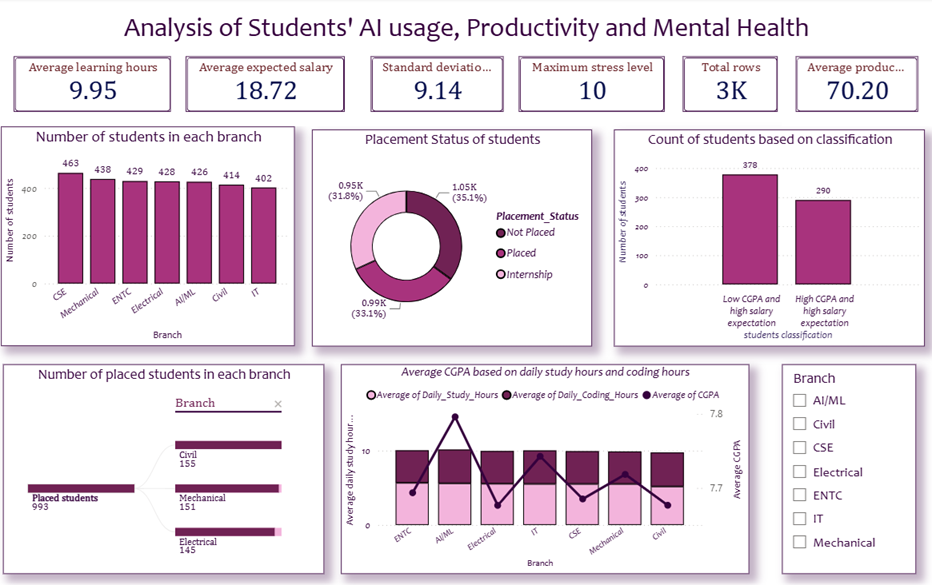

Layout of this report page (visuals, bound fields, positions):
{"tool":"powerbi","page":{"name":"Education Details","canvas":[1140,720],"ordinal":0},"visuals":[{"type":"textbox","box":[9.8,12.2,1121.3,51.4],"z":0},{"type":"clusteredColumnChart","title":"Number of students in each branch","fields":{"Category":["indian_students_ai_dataset.Branch"],"Y":["CountNonNull(indian_students_ai_dataset.Student_Id)"]},"box":[1.2,157.7,359.5,269],"z":1000},{"type":"donutChart","title":" Placement Status of students","fields":{"Category":["indian_students_ai_dataset.Placement_Status"],"Y":["CountNonNull(indian_students_ai_dataset.Student_Id)"]},"box":[381.5,161.4,342.4,265.4],"z":2000},{"type":"lineStackedColumnComboChart","title":"Average CGPA based on daily study hours and coding hours","fields":{"Category":["indian_students_ai_dataset.Branch"],"Y":["Avg(indian_students_ai_dataset.Daily_Study_Hours)","Avg(indian_students_ai_dataset.Daily_Coding_Hours)"],"Y2":["Avg(indian_students_ai_dataset.CGPA)"]},"box":[417,448.8,498.9,256.8],"z":3000},{"type":"cardVisual","fields":{"Data":["indian_students_ai_dataset.Average learning hours"]},"box":[0,55,226.2,102.7],"z":4000},{"type":"cardVisual","fields":{"Data":["indian_students_ai_dataset.Average expected salary"]},"box":[210.3,55,228.7,102.7],"z":5000},{"type":"cardVisual","fields":{"Data":["indian_students_ai_dataset.Standard deviation"]},"box":[436.6,55,196.9,102.7],"z":6000},{"type":"cardVisual","fields":{"Data":["indian_students_ai_dataset.Maximum stress level"]},"box":[617.5,55,212.8,102.7],"z":7000},{"type":"cardVisual","fields":{"Data":["indian_students_ai_dataset.Total rows"]},"box":[818.1,55,150.4,102.7],"z":8000},{"type":"decompositionTreeVisual","title":"Number of placed students in each branch","fields":{"ExplainBy":["indian_students_ai_dataset.Branch"],"Analyze":["indian_students_ai_dataset.Placed students"]},"box":[3.7,448.8,392.5,256.8],"z":9000},{"type":"slicer","fields":{"Values":["indian_students_ai_dataset.Branch"]},"box":[956.3,448.8,163.9,256.8],"z":10000},{"type":"clusteredColumnChart","title":"Count of students based on classification","fields":{"Category":["indian_students_ai_dataset.students classification"],"Y":["CountNonNull(indian_students_ai_dataset.Student_Id)"]},"box":[750.8,161.4,380.3,265.4],"z":11000},{"type":"cardVisual","fields":{"Data":["indian_students_ai_dataset.Average productivity"]},"box":[956.3,55,183.4,102.7],"z":12000}]}

Visuals, with their boxes in screenshot pixels (x1, y1, x2, y2), scaled from the page's 1140x720 canvas onto the 938x587 screenshot:
textbox: box(8, 10, 931, 52)
"Number of students in each branch" clusteredColumnChart: box(1, 129, 297, 348)
" Placement Status of students" donutChart: box(314, 132, 596, 348)
"Average CGPA based on daily study hours and coding hours" lineStackedColumnComboChart: box(343, 366, 754, 575)
cardVisual - indian_students_ai_dataset.Average learning hours: box(0, 45, 186, 129)
cardVisual - indian_students_ai_dataset.Average expected salary: box(173, 45, 361, 129)
cardVisual - indian_students_ai_dataset.Standard deviation: box(359, 45, 521, 129)
cardVisual - indian_students_ai_dataset.Maximum stress level: box(508, 45, 683, 129)
cardVisual - indian_students_ai_dataset.Total rows: box(673, 45, 797, 129)
"Number of placed students in each branch" decompositionTreeVisual: box(3, 366, 326, 575)
slicer - indian_students_ai_dataset.Branch: box(787, 366, 922, 575)
"Count of students based on classification" clusteredColumnChart: box(618, 132, 931, 348)
cardVisual - indian_students_ai_dataset.Average productivity: box(787, 45, 937, 129)
